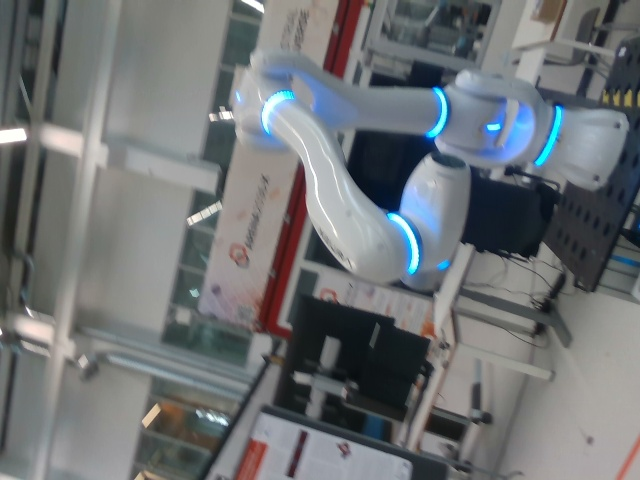Robot arm: (231, 49, 630, 290)
